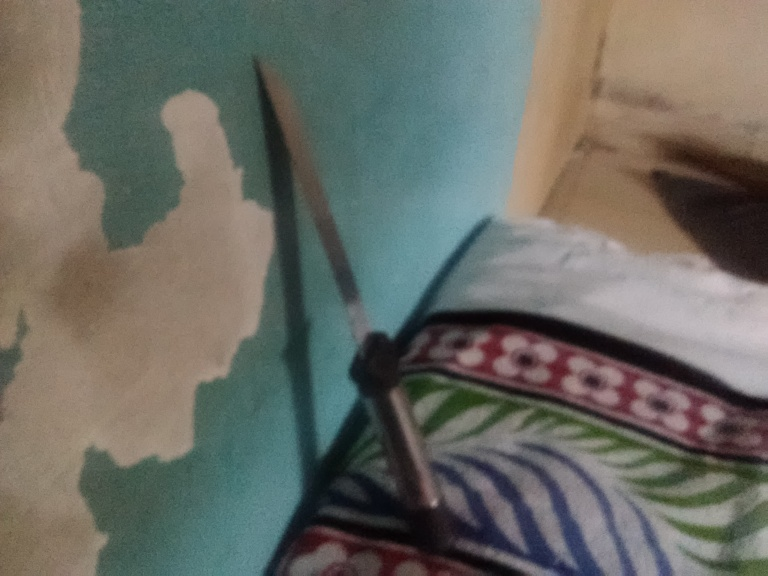knife: (256, 55, 459, 553)
